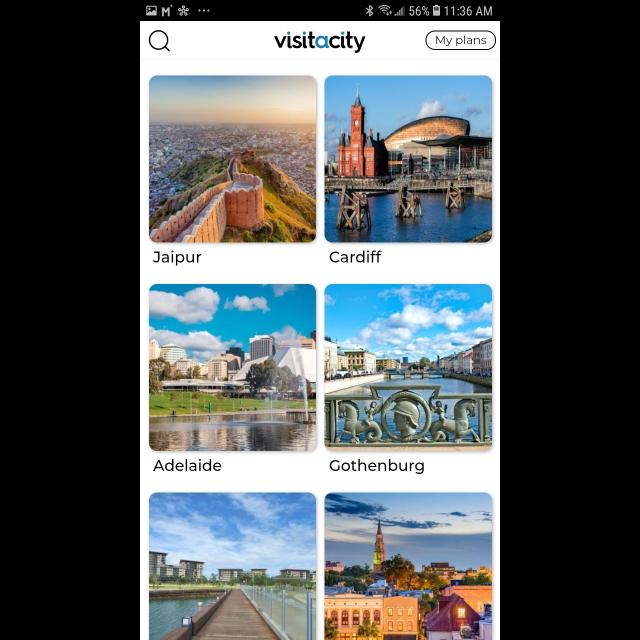icon: (150, 30, 170, 51)
image: (324, 284, 492, 452), (150, 284, 316, 452), (324, 76, 492, 242), (150, 76, 316, 244), (324, 492, 492, 640), (150, 492, 316, 640), (274, 31, 366, 53)
text: (330, 460, 424, 474), (154, 458, 222, 472), (154, 250, 202, 266), (330, 250, 382, 262)
textbutton: (426, 31, 496, 51)
uppertaskbar: (140, 1, 500, 22)
